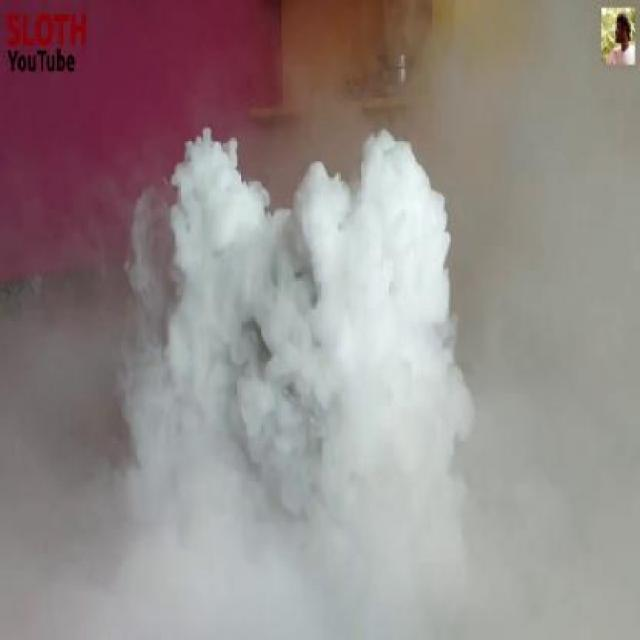smoke: (123, 84, 545, 560)
